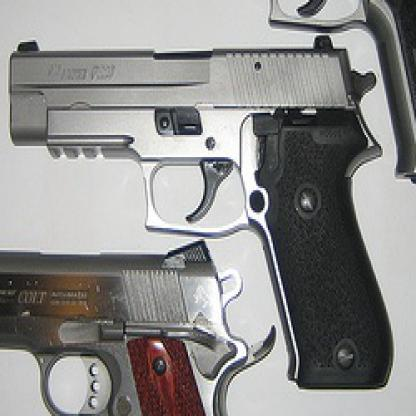gun: (10, 35, 393, 394), (130, 0, 414, 188), (0, 235, 276, 414)
